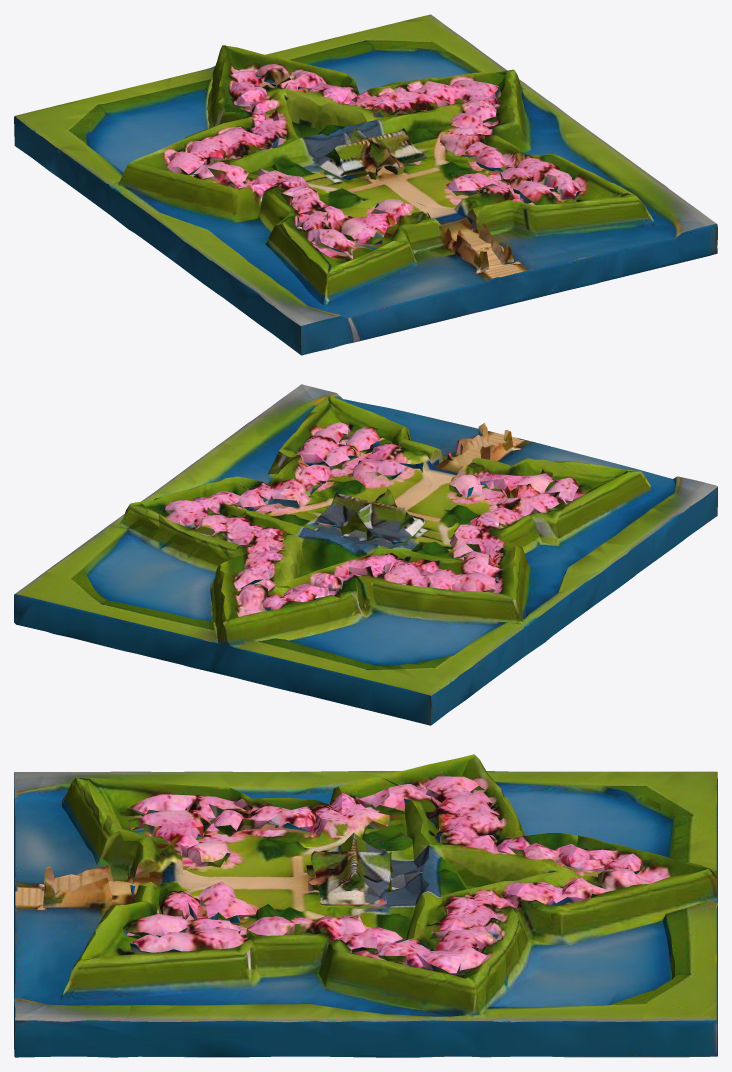
File: goryokaku.glb
3 renders of one model, top to bottom at view 1: azimuth 30°, elevation 25°; view 2: azimuth 150°, elevation 25°; view 3: azimuth 270°, elevation 25°, orthographic. The views are drawn at different scales.
Visible parts, largest first — view 1: logan-textured.obj; view 2: logan-textured.obj; view 3: logan-textured.obj.
Boxes of the visible parts, x1,y1,x2,y2 form: logan-textured.obj: [14, 14, 717, 355]; logan-textured.obj: [14, 384, 717, 725]; logan-textured.obj: [14, 754, 717, 1057].
Bounding box in the file's own units: 0.8407 × 0.1288 × 1.
1 material, 1 textured.
